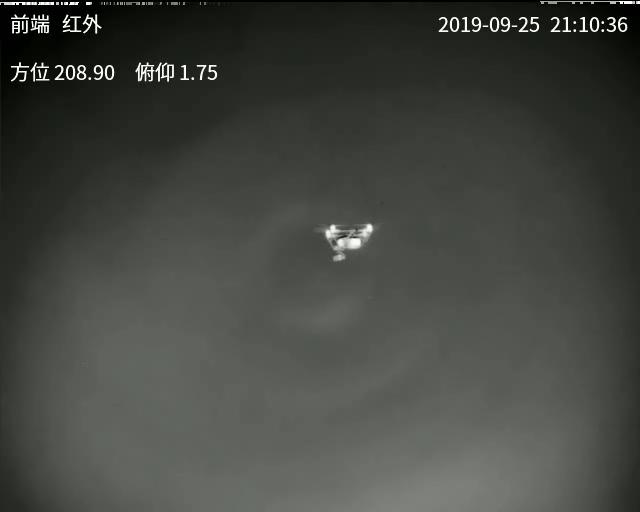uav: (318, 218, 374, 265)
